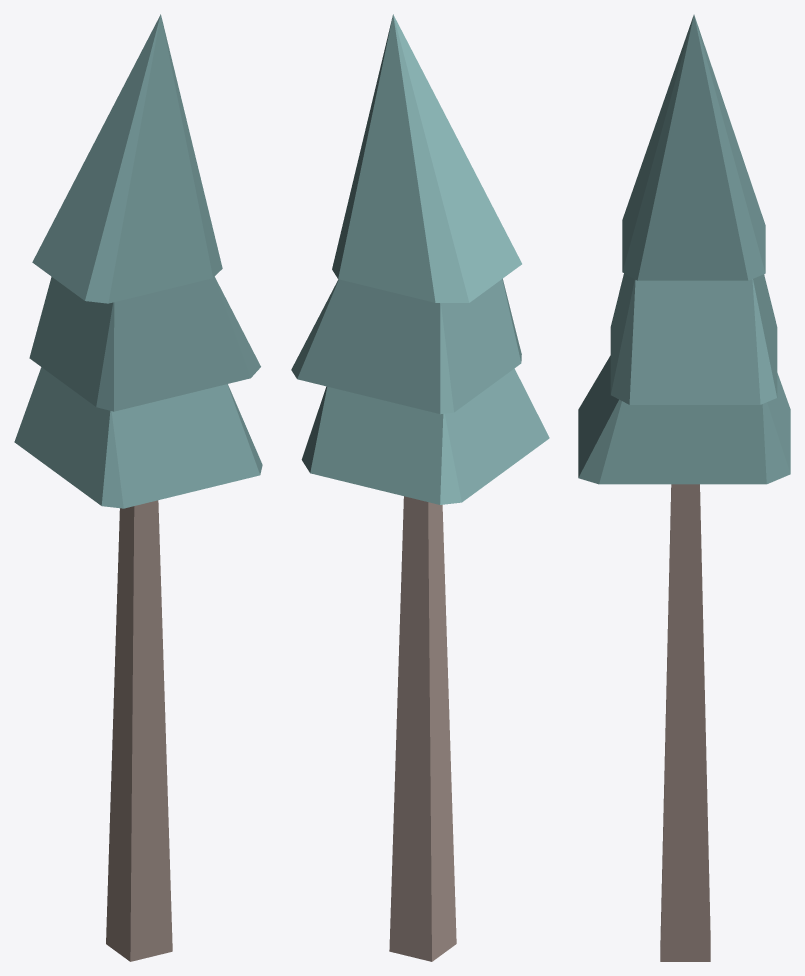
Rendered from nat_tree_pineTallB.glb.
3 renders of one model, left to right at view 1: azimuth 30°, elevation 25°; view 2: azimuth 150°, elevation 25°; view 3: azimuth 270°, elevation 25°, orthographic. The views are drawn at different scales.
Parts seen in each view (by area): view 1: geometry_0; view 2: geometry_0; view 3: geometry_0.
Part boxes in pixels (box(x1,y1,x2,y2)): geometry_0: box(14, 14, 262, 961); geometry_0: box(291, 14, 549, 961); geometry_0: box(578, 14, 790, 961).
Size of the model in its own units: 0.1997 by 1 by 0.2026.
